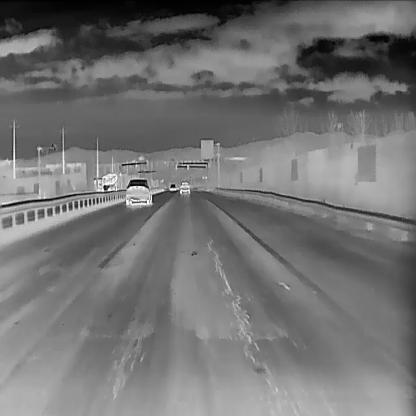car: (125, 177, 152, 206), (179, 180, 190, 192), (169, 183, 176, 191)
truck: (93, 171, 120, 195)
